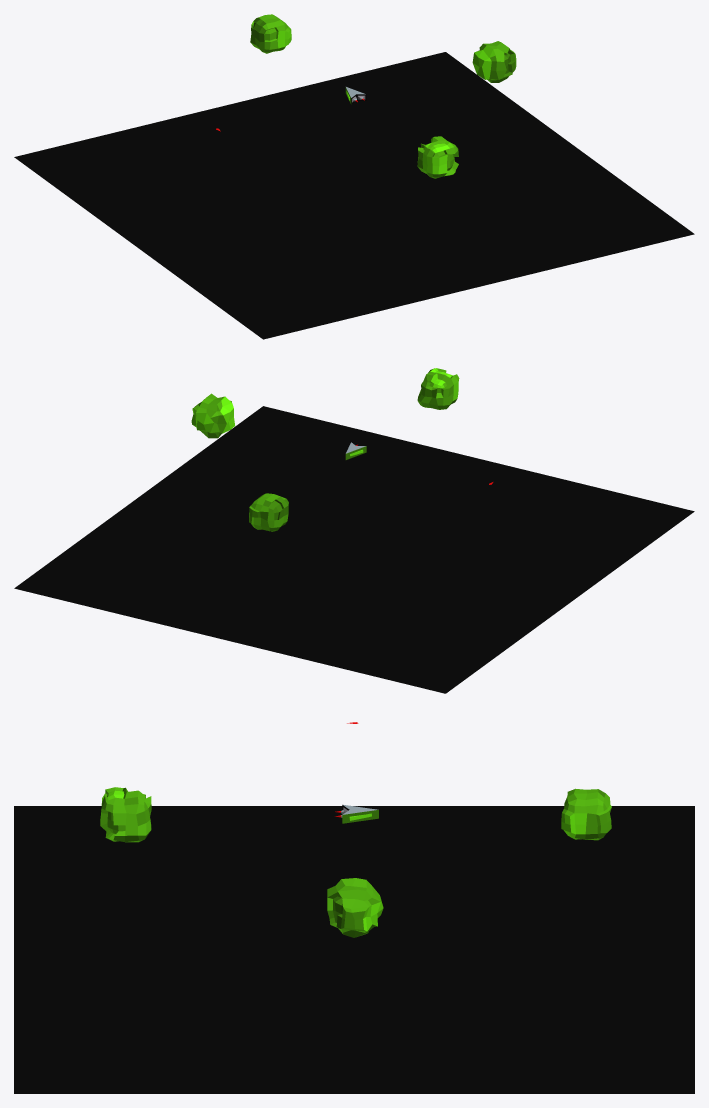
Rendered from asteroid.gltf.
3 views of the same model, one above another, from view 1: azimuth 30°, elevation 25°; view 2: azimuth 150°, elevation 25°; view 3: azimuth 270°, elevation 25° (orthographic). The views are drawn at different scales.
Visible parts, largest first — view 1: Plane, asteroid1, asteroid2, asteroid3; view 2: Plane, asteroid1, asteroid2, asteroid3; view 3: Plane, asteroid1, asteroid2, asteroid3, player.
Part boxes in pixels (x1,y1,x2,y2): Plane: [14, 52, 694, 339]; asteroid1: [472, 41, 516, 82]; asteroid2: [417, 136, 458, 178]; asteroid3: [250, 14, 291, 53]; Plane: [14, 406, 694, 693]; asteroid1: [191, 393, 234, 438]; asteroid2: [417, 368, 459, 409]; asteroid3: [249, 493, 288, 531]; Plane: [14, 806, 694, 1093]; asteroid1: [327, 878, 383, 937]; asteroid2: [100, 787, 151, 842]; asteroid3: [561, 788, 611, 840]; player: [335, 804, 378, 823].
Size of the model in its own units: 27.85 by 7.24 by 27.85.
1 material, 1 textured.
